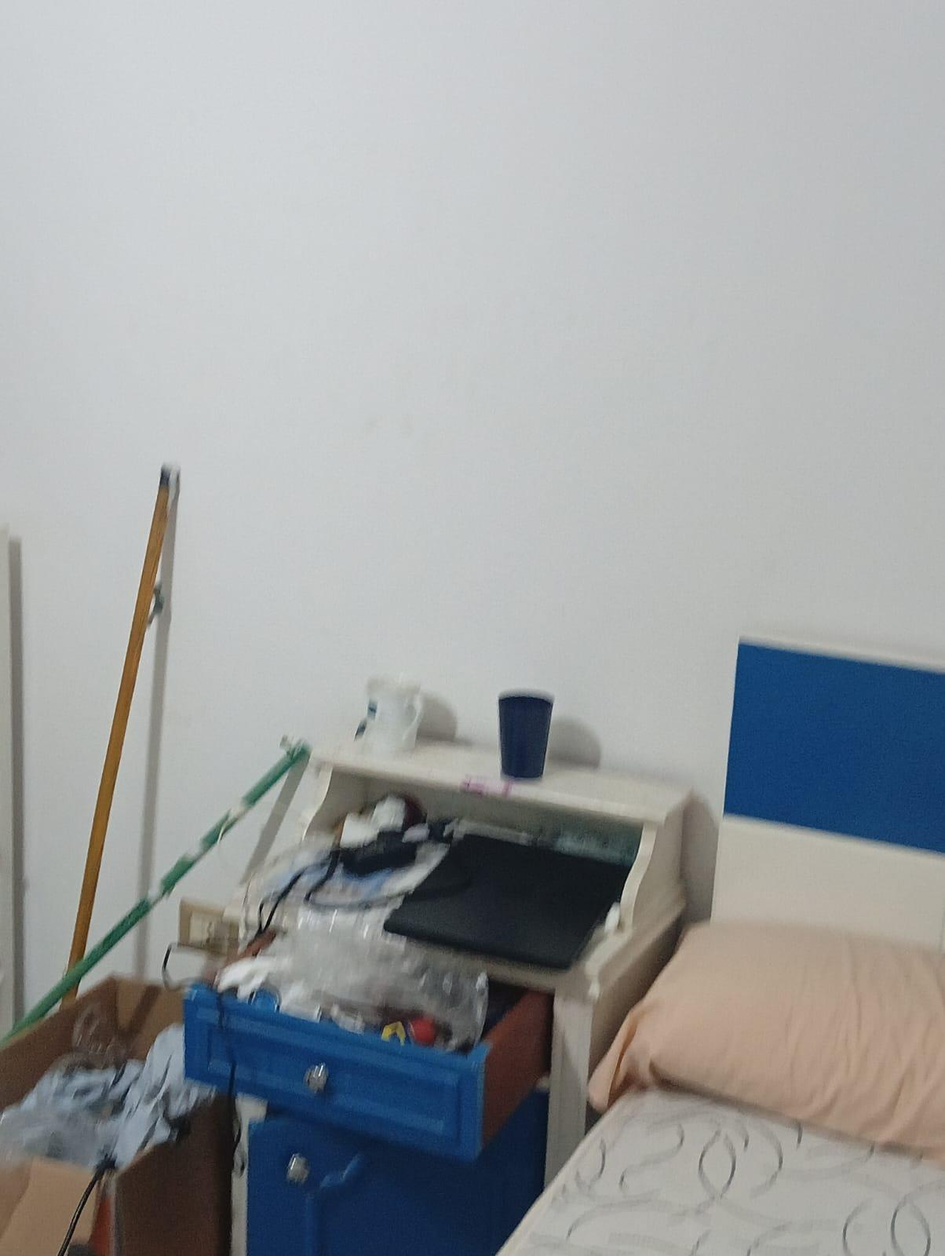cup: (356, 677, 423, 757), (498, 692, 553, 780)
